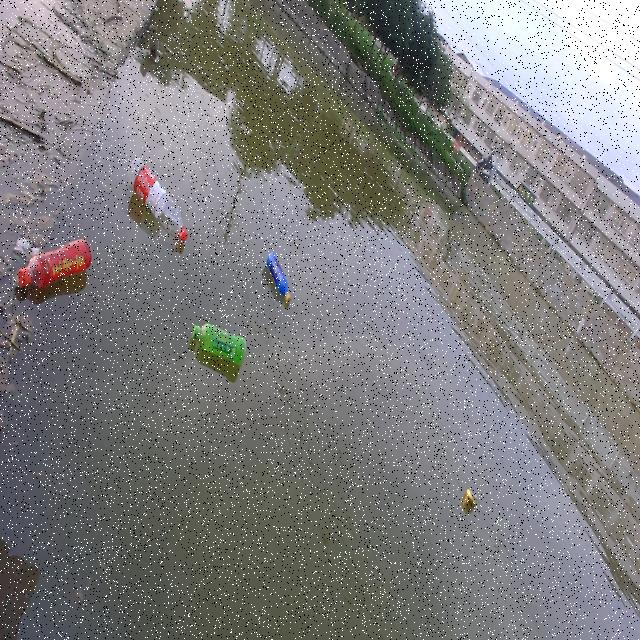Bottle: (126, 153, 189, 244), (16, 233, 94, 288), (190, 316, 248, 367), (264, 246, 294, 306)
Can: (456, 483, 479, 517)
